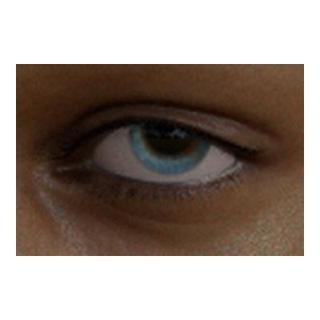pupil: (146, 108, 193, 155)
